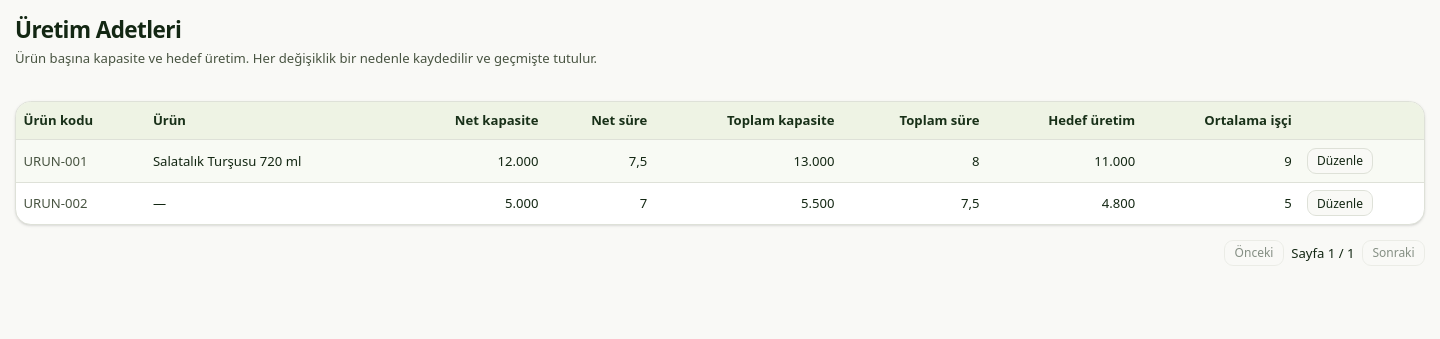
Test: UretimAdetleri (U8) › satır içi düzenleme: neden zorunlu, PUT gövdesi alanlar + neden
Expected: the text "URUN-001" is shown, [16,140,145,182]
Click the button with aria-label "Düzenle — URUN-001" at {"x": 1340, "y": 161}, box [1307,148,1373,174]
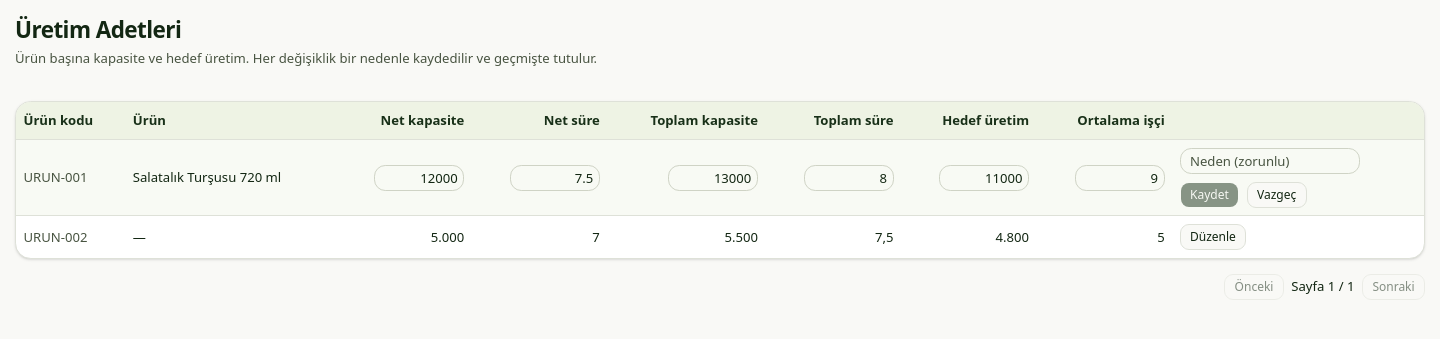
Clear the field named "Hedef üretim" at {"x": 984, "y": 178}, box [939,165,1029,191]
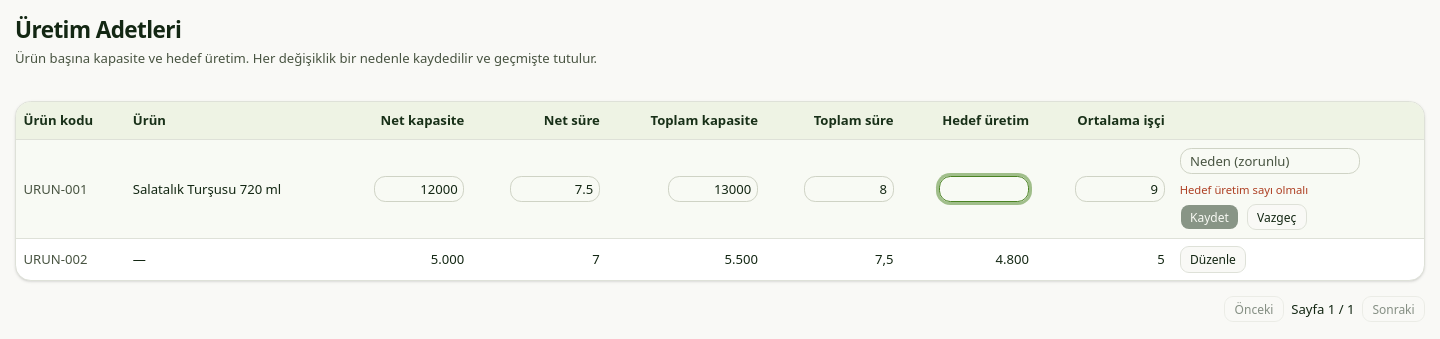
Type "11500" into the field named "Hedef üretim" at {"x": 984, "y": 189}, box [939,176,1029,202]
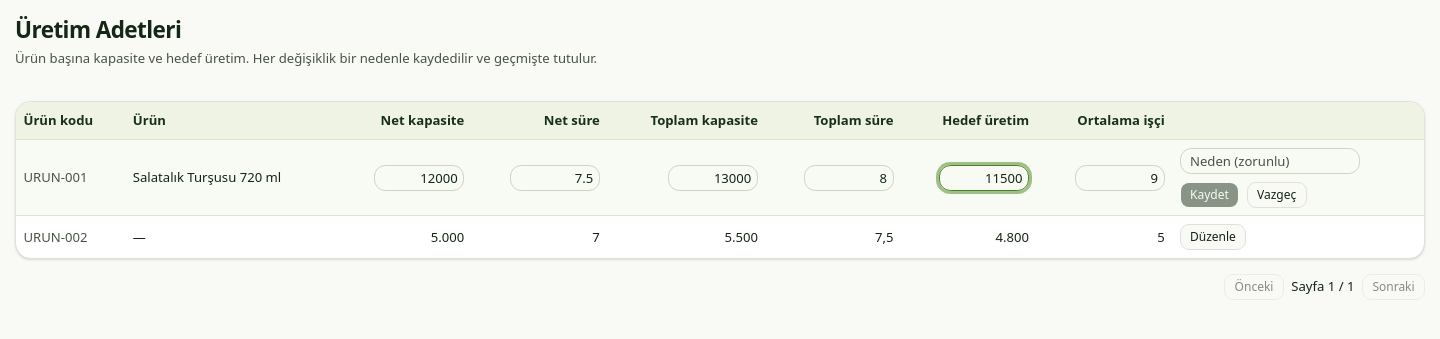
Expected: the button "Kaydet" is disabled, [1180,182,1239,208]
Type "Sezon planı güncellendi" into the field labelled "Neden" at {"x": 1270, "y": 161}, box [1180,148,1360,174]
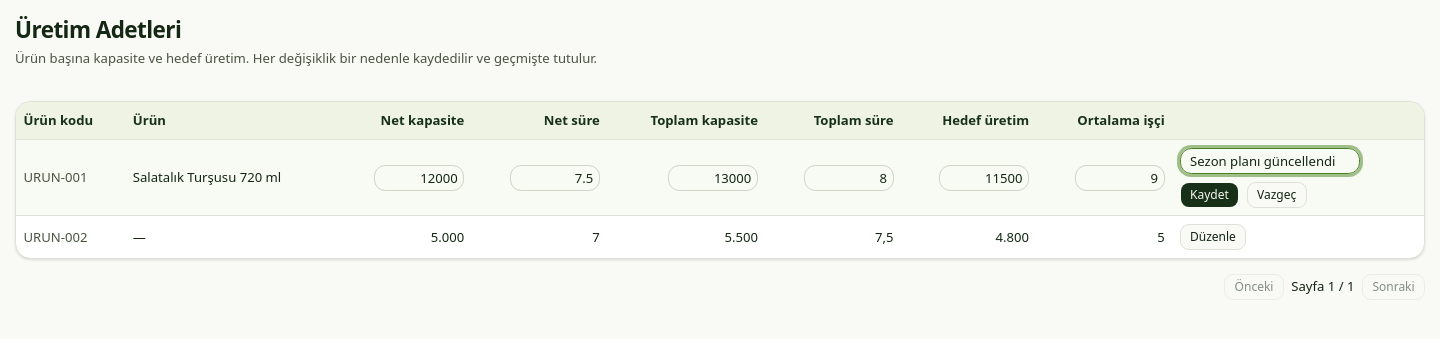
Expected: the button "Kaydet" is enabled
Click the button "Kaydet" at {"x": 1209, "y": 195}, box [1180,182,1239,208]
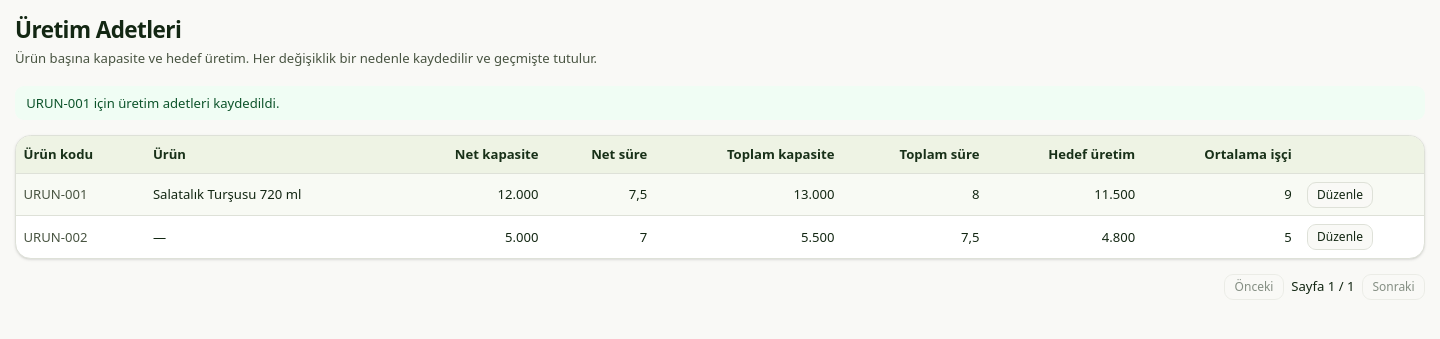
Expected: the message named "Kayıt durumu" shows "URUN-001", [26,94,280,112]
Expected: the text "11.500" is shown, [987,174,1143,216]
